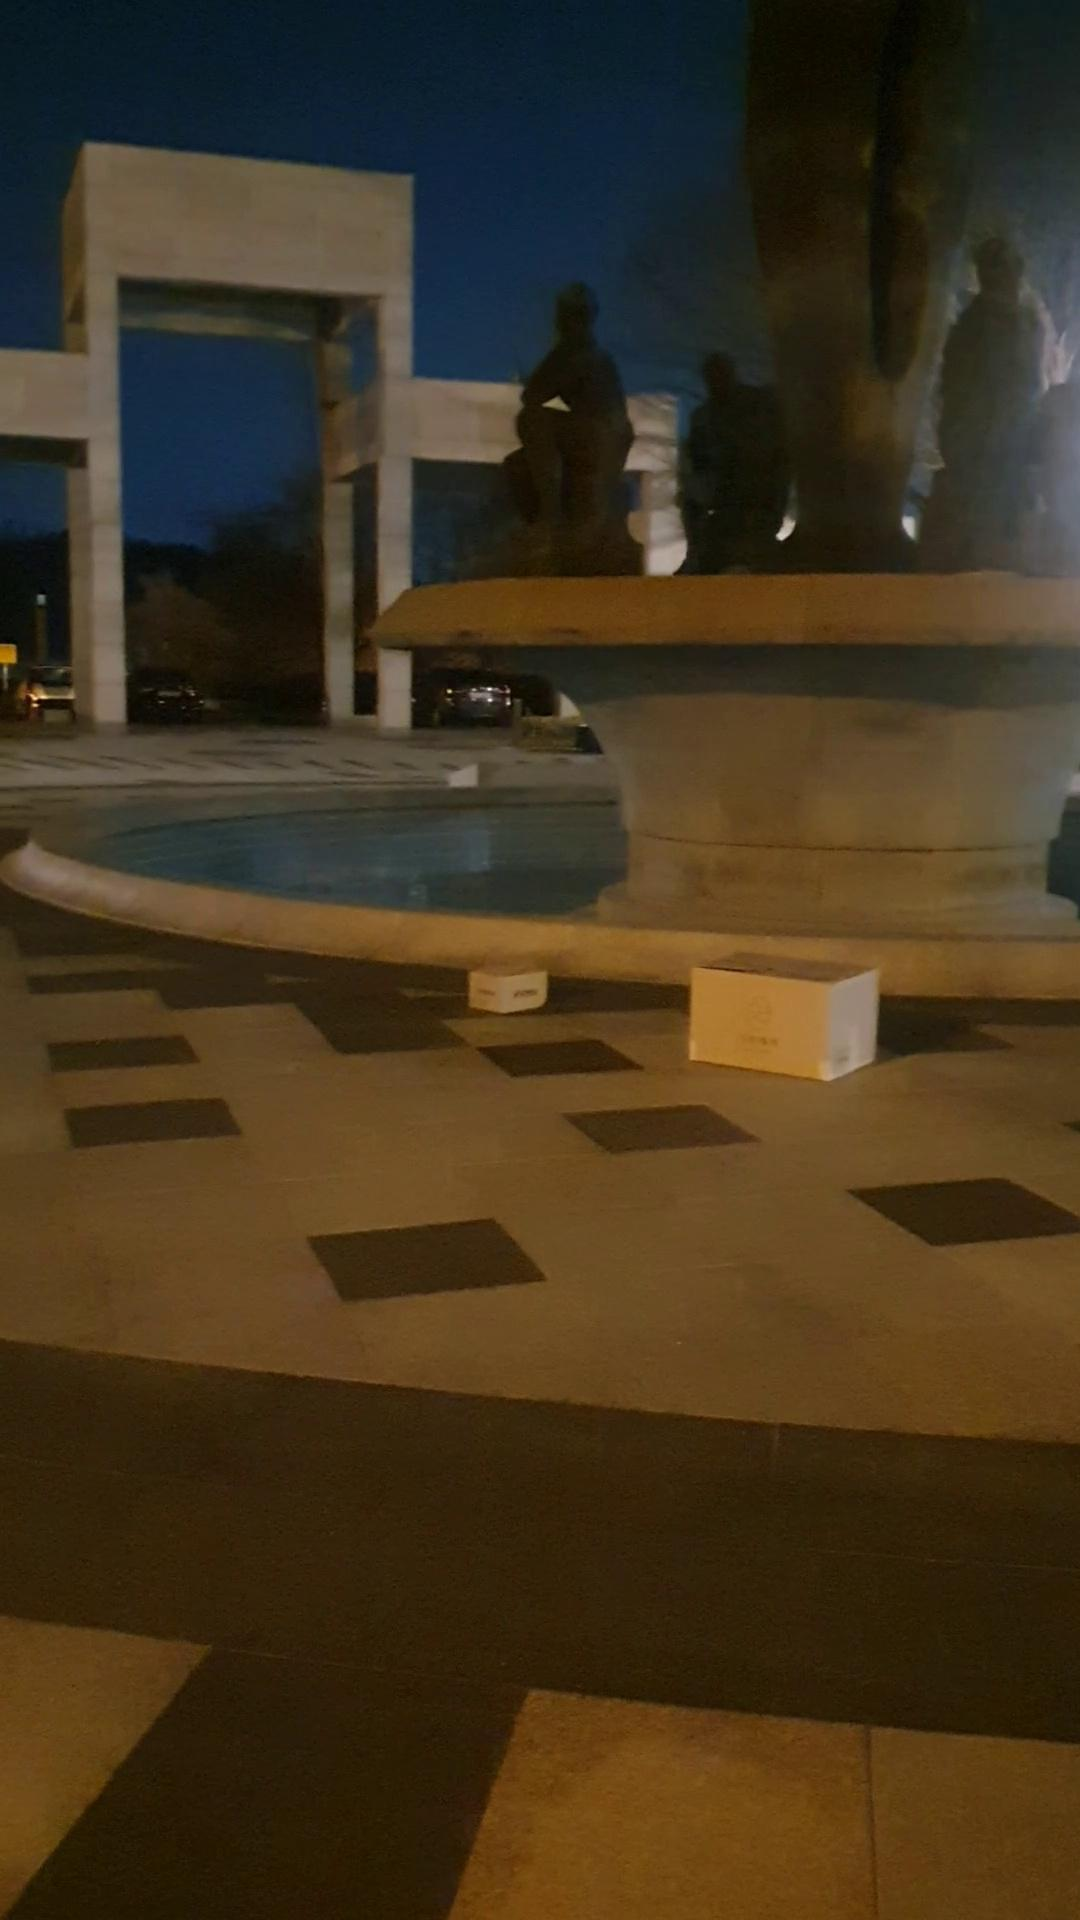Box: (678, 943, 887, 1093), (456, 949, 560, 1021)
